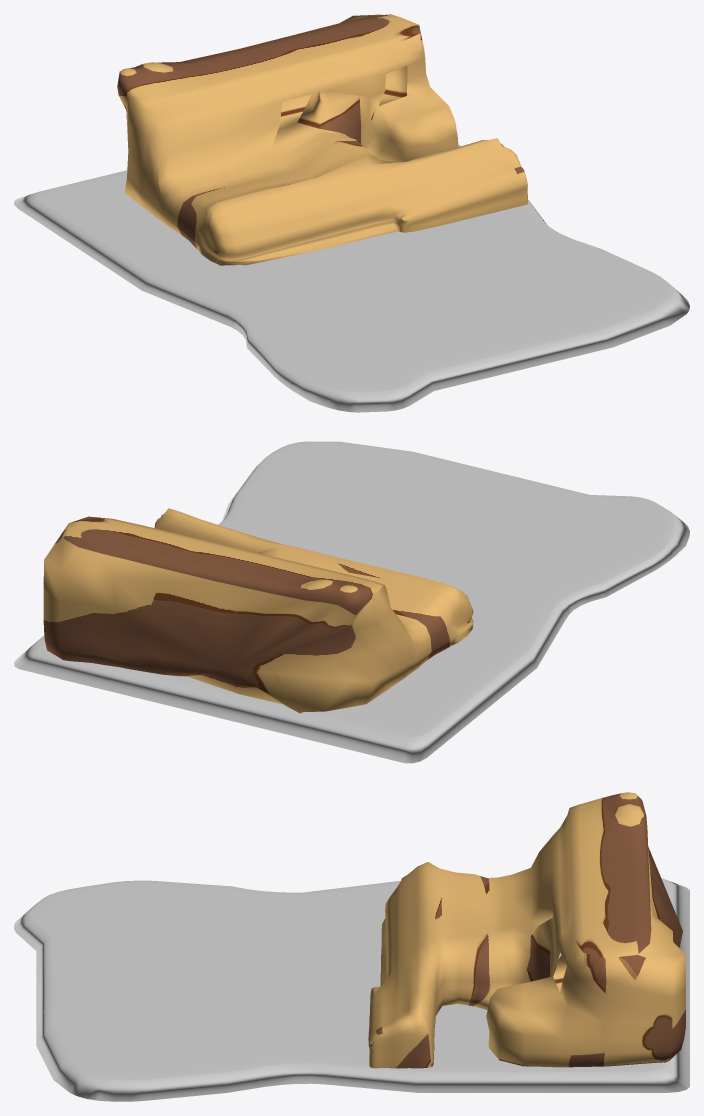
File: Terrain with way through the stone.fbx
3 views of the same model, one above another, from view 1: azimuth 30°, elevation 25°; view 2: azimuth 150°, elevation 25°; view 3: azimuth 270°, elevation 25° (orthographic). The views are drawn at different scales.
Parts seen in each view (by area): view 1: Cube, Cube.001; view 2: Cube, Cube.001; view 3: Cube, Cube.001.
Boxes of the visible parts, box(x1,y1,x2,y2) form: Cube: box(14, 144, 689, 412); Cube.001: box(117, 14, 527, 265); Cube: box(14, 441, 689, 763); Cube.001: box(43, 508, 473, 713); Cube: box(14, 877, 689, 1101); Cube.001: box(368, 792, 685, 1068).
Size of the model in its own units: 6210 by 1870 by 8174.
